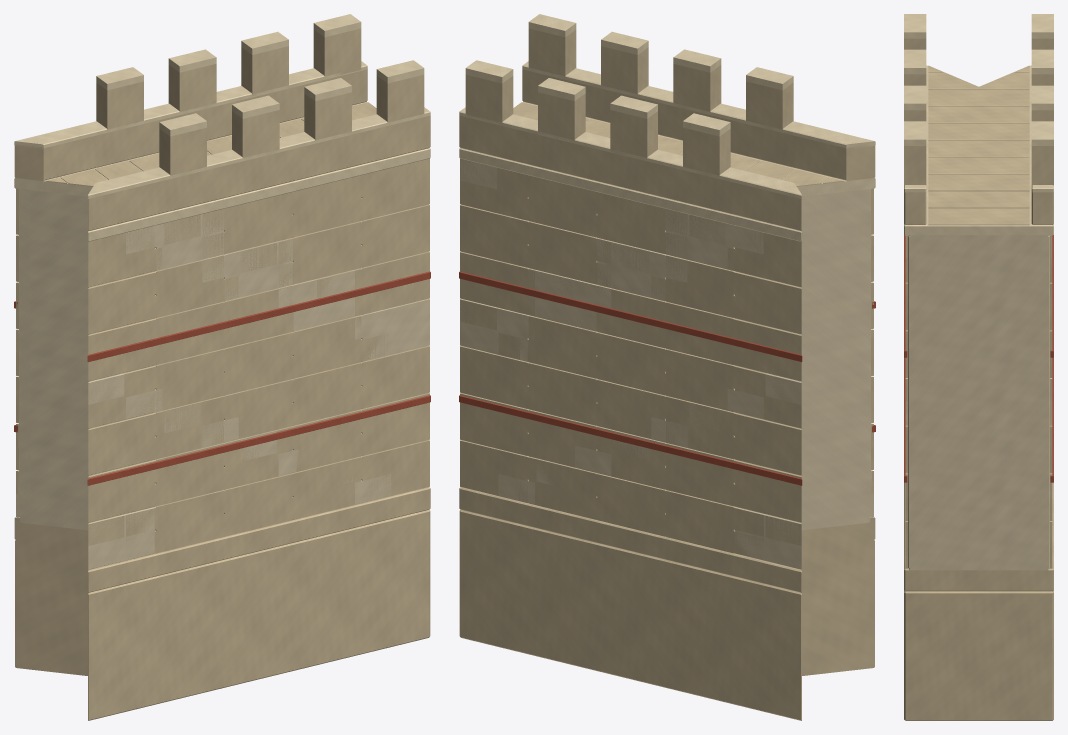
File: verona_wall_diagonal.glb
3 views of the same model, side by side, from view 1: azimuth 30°, elevation 25°; view 2: azimuth 150°, elevation 25°; view 3: azimuth 270°, elevation 25° (orthographic).
Visible parts, largest first — view 1: Travertine.002, Travertine.003, Limewash.002, Limestone_trim.002, Limewash.003, Pompeian_red.002, Limestone_trim.003; view 2: Travertine.002, Travertine.003, Limewash.002, Limestone_trim.002, Limewash.003, Pompeian_red.002, Limestone_trim.003; view 3: Limewash.002, Travertine.002, Limestone_trim.002, Travertine.003, Limestone_trim.003, Pompeian_red.002.
Boxes of the visible parts, x1,y1,x2,y2 form: Travertine.002: (14,31,430,720); Travertine.003: (16,28,429,553); Limewash.002: (16,166,429,569); Limestone_trim.002: (14,14,430,241); Limewash.003: (16,209,429,567); Pompeian_red.002: (14,271,430,485); Limestone_trim.003: (96,14,424,136); Travertine.002: (459,30,875,720); Travertine.003: (460,28,873,553); Limewash.002: (460,159,873,569); Limestone_trim.002: (459,14,875,241); Limewash.003: (460,210,873,568); Pompeian_red.002: (459,271,875,485); Limestone_trim.003: (465,14,793,136); Limewash.002: (906,234,1051,572); Travertine.002: (904,40,1053,720); Limestone_trim.002: (904,14,1053,235); Travertine.003: (904,38,1053,568); Limestone_trim.003: (904,14,1053,145); Pompeian_red.002: (904,235,1053,482).
Bounding box in the file's own units: 6.16 × 9.8 × 2.3.
4 materials, 4 textured.
